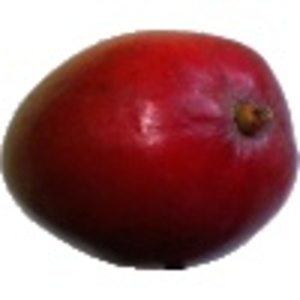manga: (1, 29, 300, 271)
